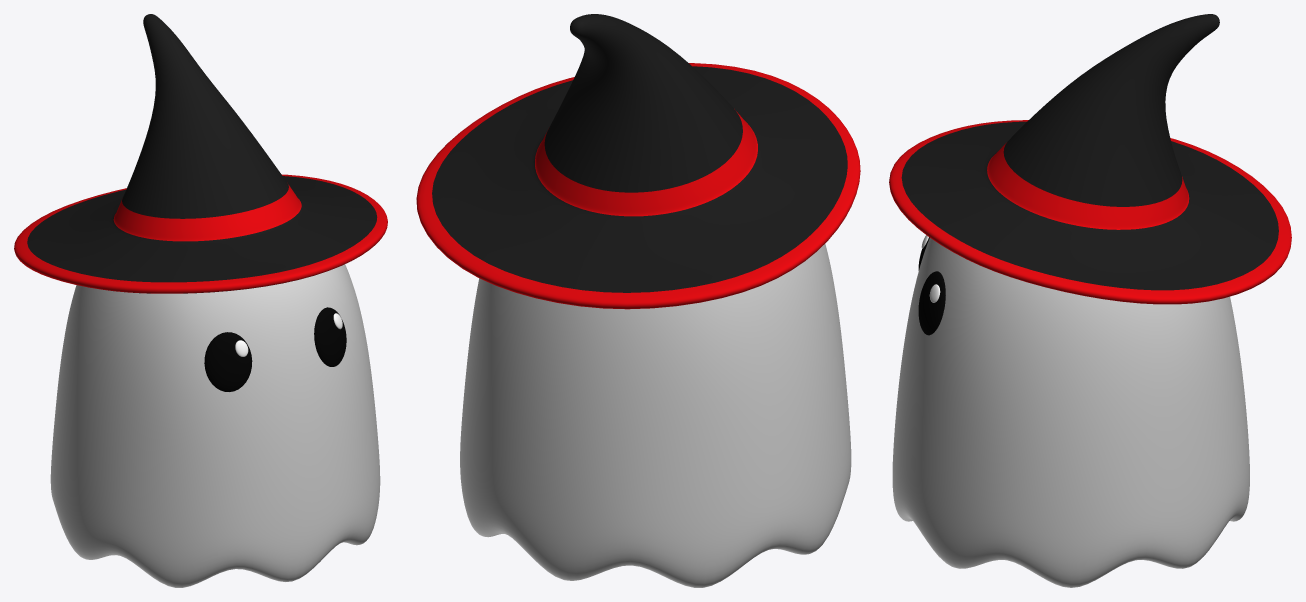
3 views of the same model, side by side, from view 1: azimuth 30°, elevation 25°; view 2: azimuth 150°, elevation 25°; view 3: azimuth 270°, elevation 25° (orthographic). The views are drawn at different scales.
Parts seen in each view (by area): view 1: Body_MSH, Circle, Eyes_MSH; view 2: Body_MSH, Circle; view 3: Body_MSH, Circle, Eyes_MSH.
Part boxes in pixels (x1,y1,x2,y2): Body_MSH: [50, 264, 380, 587]; Circle: [14, 14, 387, 293]; Eyes_MSH: [204, 307, 346, 391]; Body_MSH: [460, 244, 851, 587]; Circle: [416, 14, 860, 309]; Body_MSH: [892, 238, 1249, 587]; Circle: [889, 14, 1291, 304]; Eyes_MSH: [918, 235, 945, 335].
Size of the model in its own units: 288 by 397 by 288.
